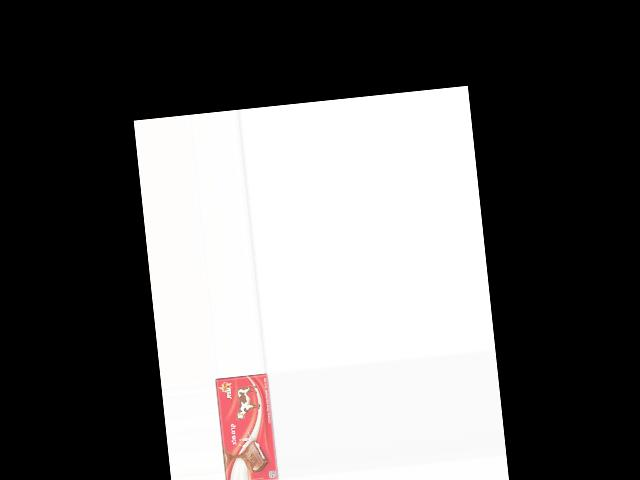chocolate: (214, 371, 279, 480)
